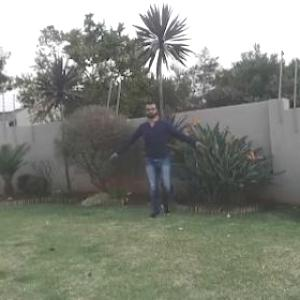land: (104, 80, 231, 237)
